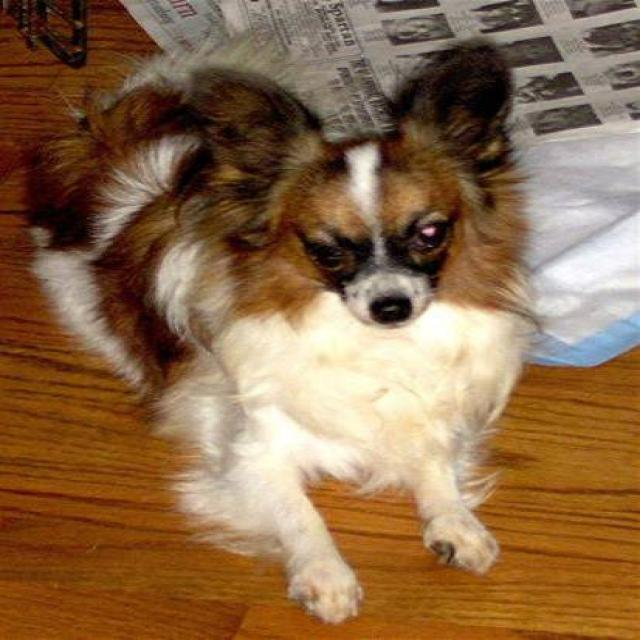dog: (20, 31, 541, 624)
